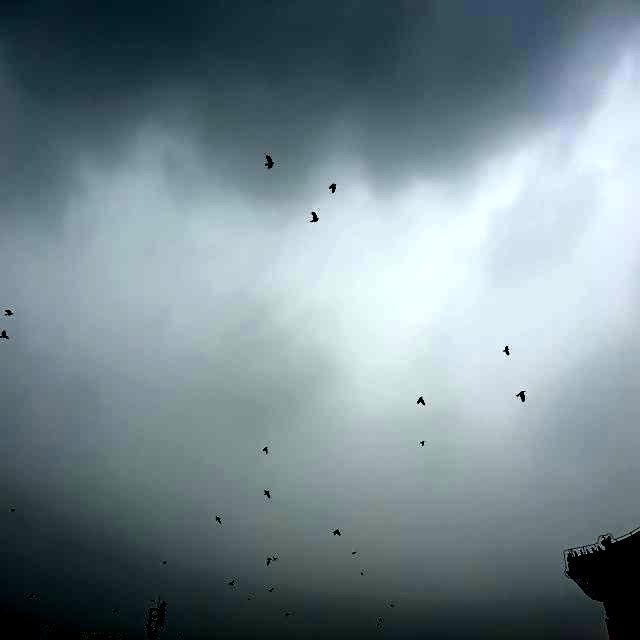bird: (322, 172, 344, 198), (329, 520, 349, 546), (511, 382, 530, 408), (261, 550, 279, 575), (308, 206, 324, 234), (259, 486, 281, 504), (262, 156, 278, 180), (254, 442, 278, 458), (412, 390, 429, 412), (158, 552, 174, 574), (0, 322, 14, 347), (498, 339, 516, 357), (352, 566, 371, 582), (264, 580, 280, 598), (4, 305, 20, 322), (214, 512, 226, 532), (226, 574, 238, 594), (347, 546, 361, 558), (418, 438, 432, 448)
